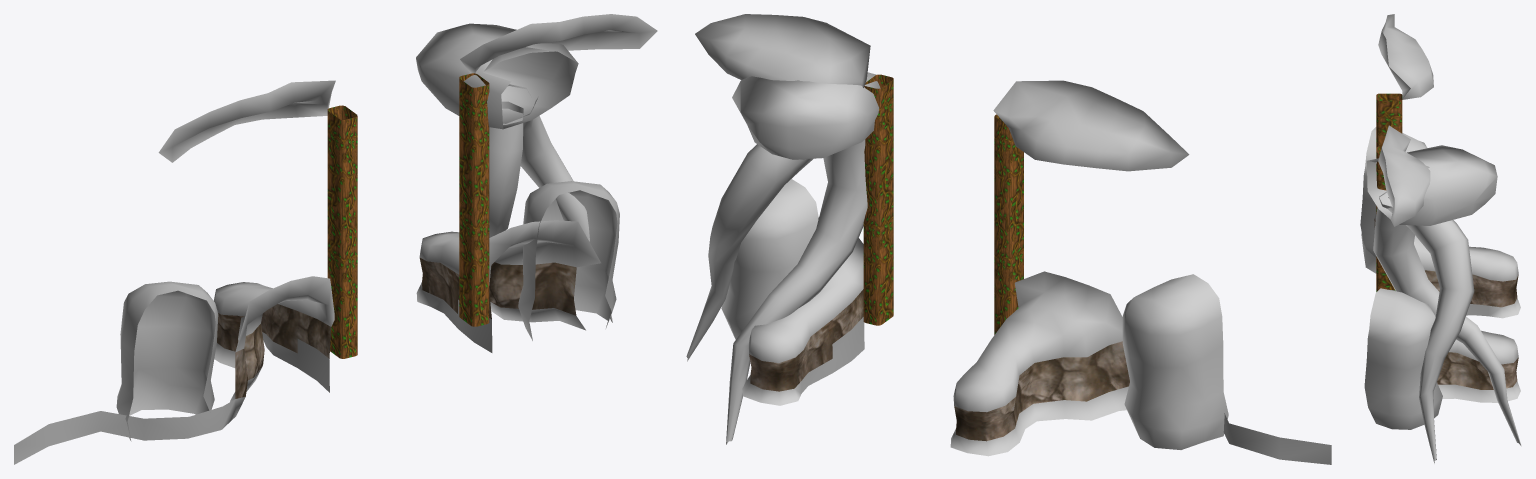
Rendered from EKH_ENTRANCE_PS_EN_DOOR_DRESSING746__GX.obj.
3 renders of one model, left to right at view 1: azimuth 30°, elevation 25°; view 2: azimuth 150°, elevation 25°; view 3: azimuth 270°, elevation 25°, orthographic. The views are drawn at different scales.
Parts seen in each view (by area): view 1: Dressing746__GX; view 2: Dressing746__GX; view 3: Dressing746__GX.
Part boxes in pixels (bbox=[...]): Dressing746__GX: bbox=[14, 14, 657, 464]; Dressing746__GX: bbox=[686, 14, 1331, 464]; Dressing746__GX: bbox=[1360, 14, 1521, 463].
Bounding box in the file's own units: 2414 × 1330 × 639.
